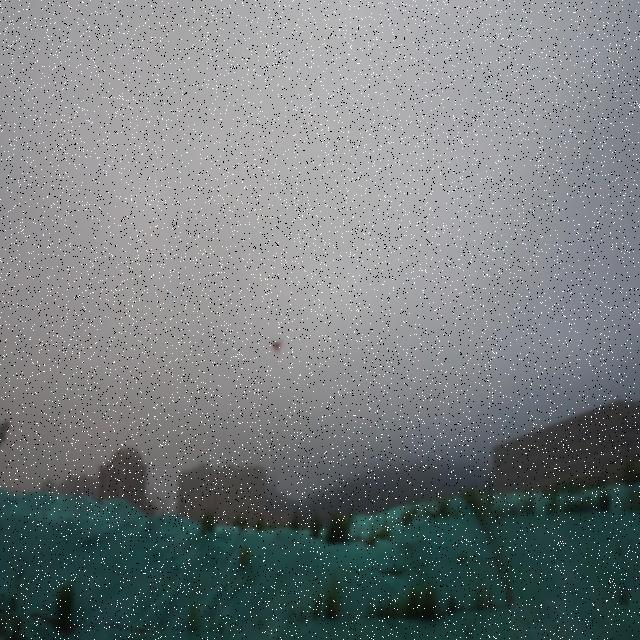UAV: (270, 338, 282, 356)
